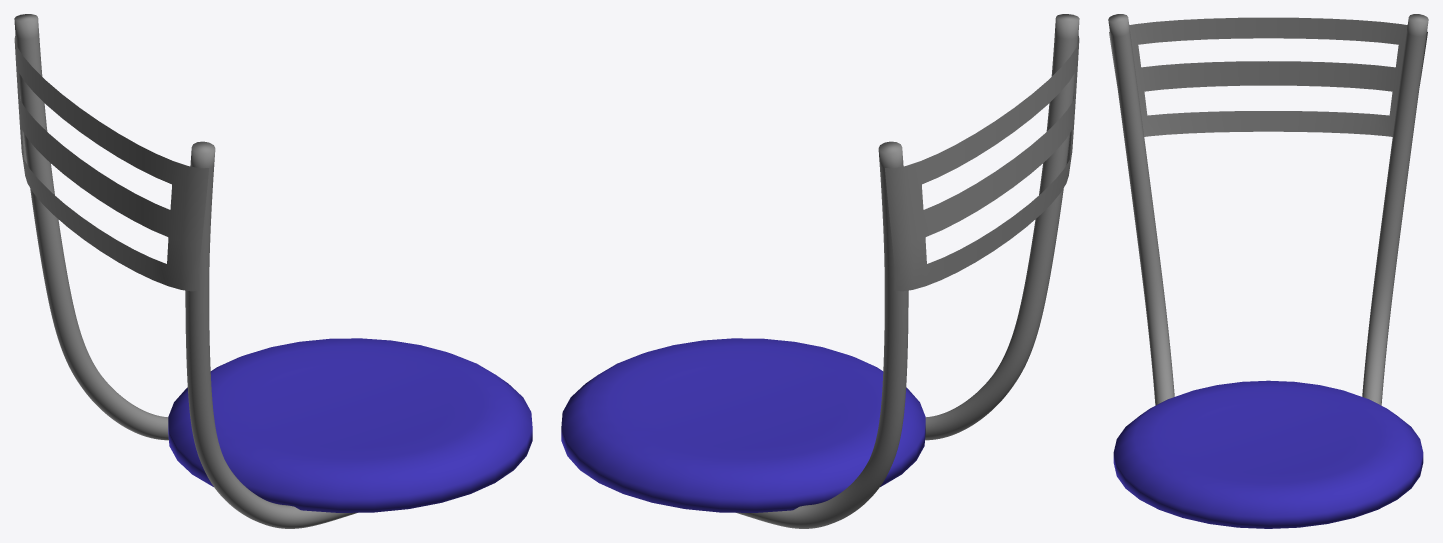
The model's file is cadeira.fbx.
3 views of the same model, side by side, from view 1: azimuth 30°, elevation 25°; view 2: azimuth 150°, elevation 25°; view 3: azimuth 270°, elevation 25° (orthographic). The views are drawn at different scales.
Parts seen in each view (by area): view 1: Circle, Circle.001, NurbsPath.001, NurbsPath; view 2: Circle, Circle.001, NurbsPath, NurbsPath.001; view 3: Circle, Circle.001, NurbsPath.001, NurbsPath.
Boxes of the visible parts, bbox=[...] form: Circle: bbox=[168, 338, 532, 512]; Circle.001: bbox=[14, 35, 208, 291]; NurbsPath.001: bbox=[14, 14, 168, 440]; NurbsPath: bbox=[185, 141, 357, 528]; Circle: bbox=[561, 338, 925, 512]; Circle.001: bbox=[885, 35, 1079, 291]; NurbsPath: bbox=[925, 14, 1079, 440]; NurbsPath.001: bbox=[736, 141, 908, 528]; Circle: bbox=[1113, 380, 1423, 528]; Circle.001: bbox=[1109, 17, 1427, 136]; NurbsPath.001: bbox=[1362, 14, 1428, 405]; NurbsPath: bbox=[1108, 14, 1174, 405].
Bounding box in the file's own units: 271 × 262 × 207.
